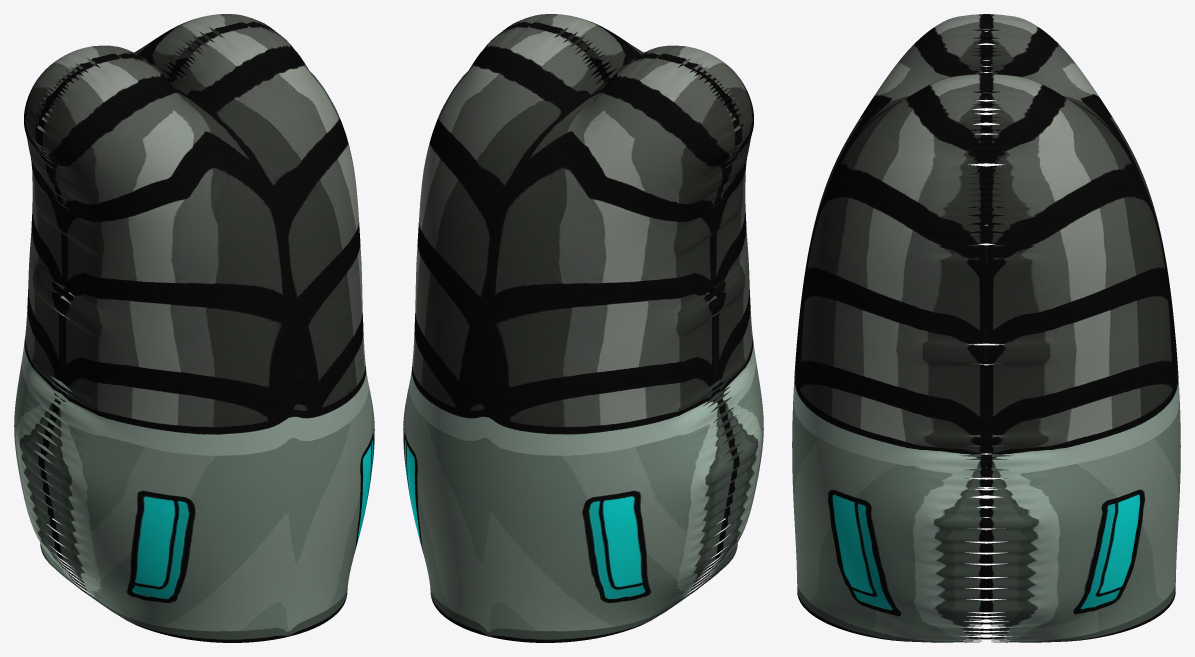
File: conduit_junction.glb
3 renders of one model, left to right at view 1: azimuth 30°, elevation 25°; view 2: azimuth 150°, elevation 25°; view 3: azimuth 270°, elevation 25°, orthographic.
Parts seen in each view (by area): view 1: conduit_junction; view 2: conduit_junction; view 3: conduit_junction.
Boxes of the visible parts, box(x1,y1,x2,y2) form: conduit_junction: box(14, 14, 374, 642); conduit_junction: box(403, 14, 763, 642); conduit_junction: box(792, 14, 1180, 642).
Size of the model in its own units: 0.9821 by 1.61 by 1.08.
Materials: 1 (1 with a texture image).
